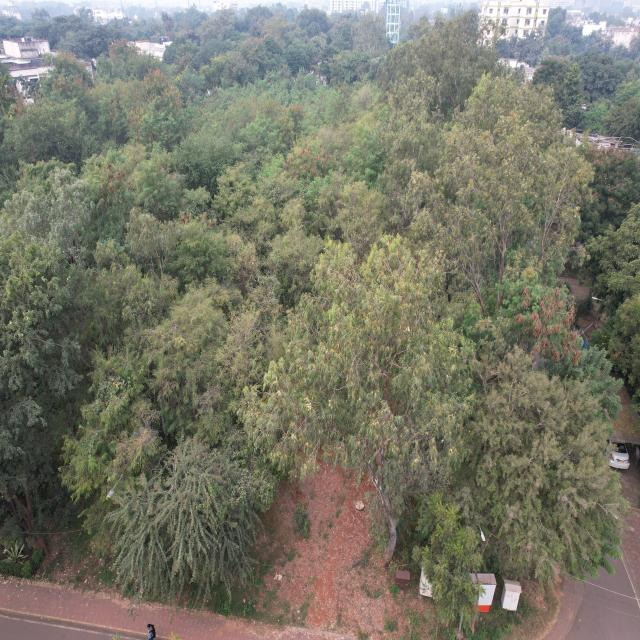Devakanchan tree: (6, 265, 64, 452)
